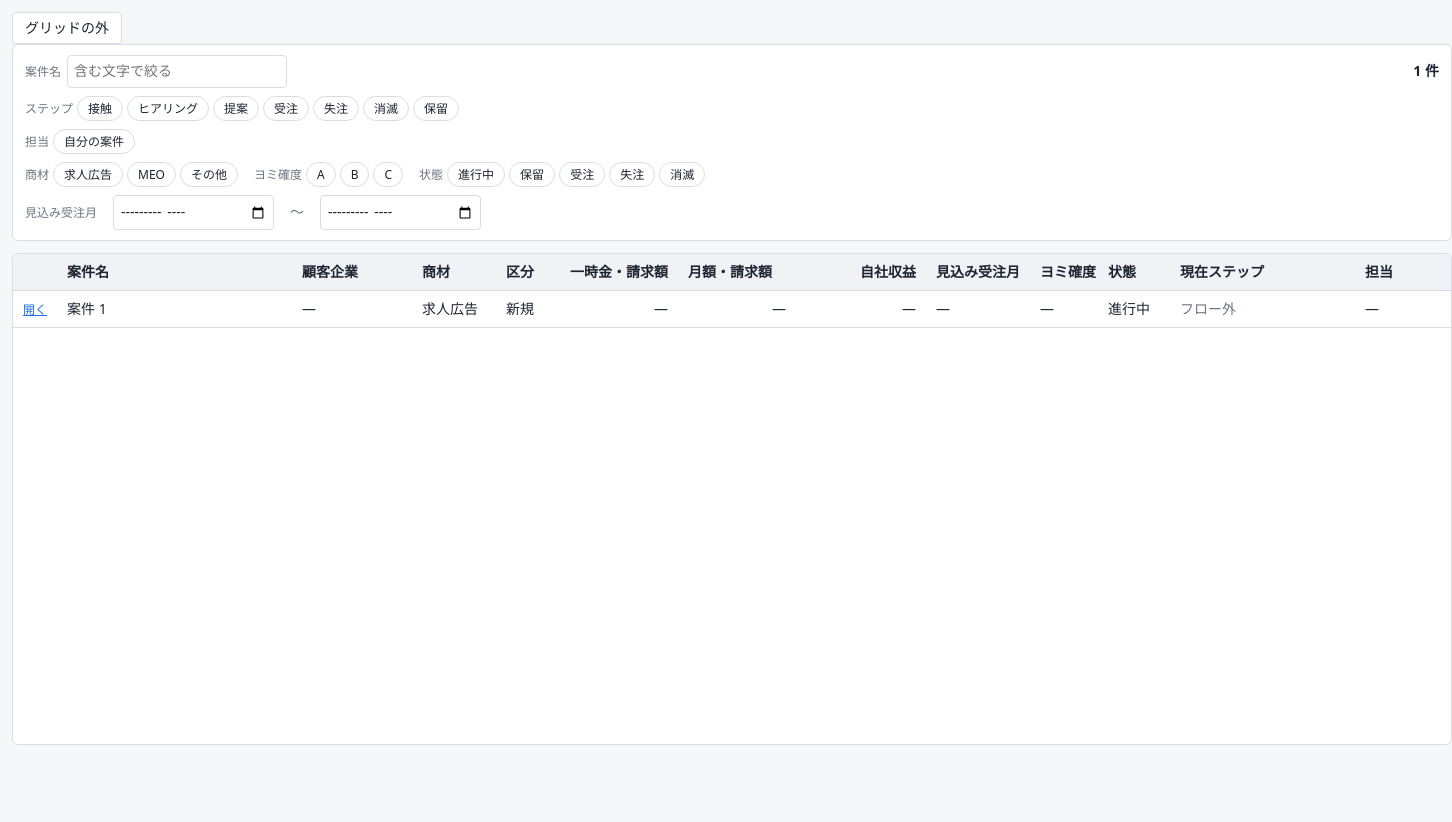
Test case: 編集の確定 › IME 変換確定の Enter ではセル確定せず、実キーの Enter で確定する
Click the cell "案件 1" at coordinates (87, 308), box [67,298,107,318]
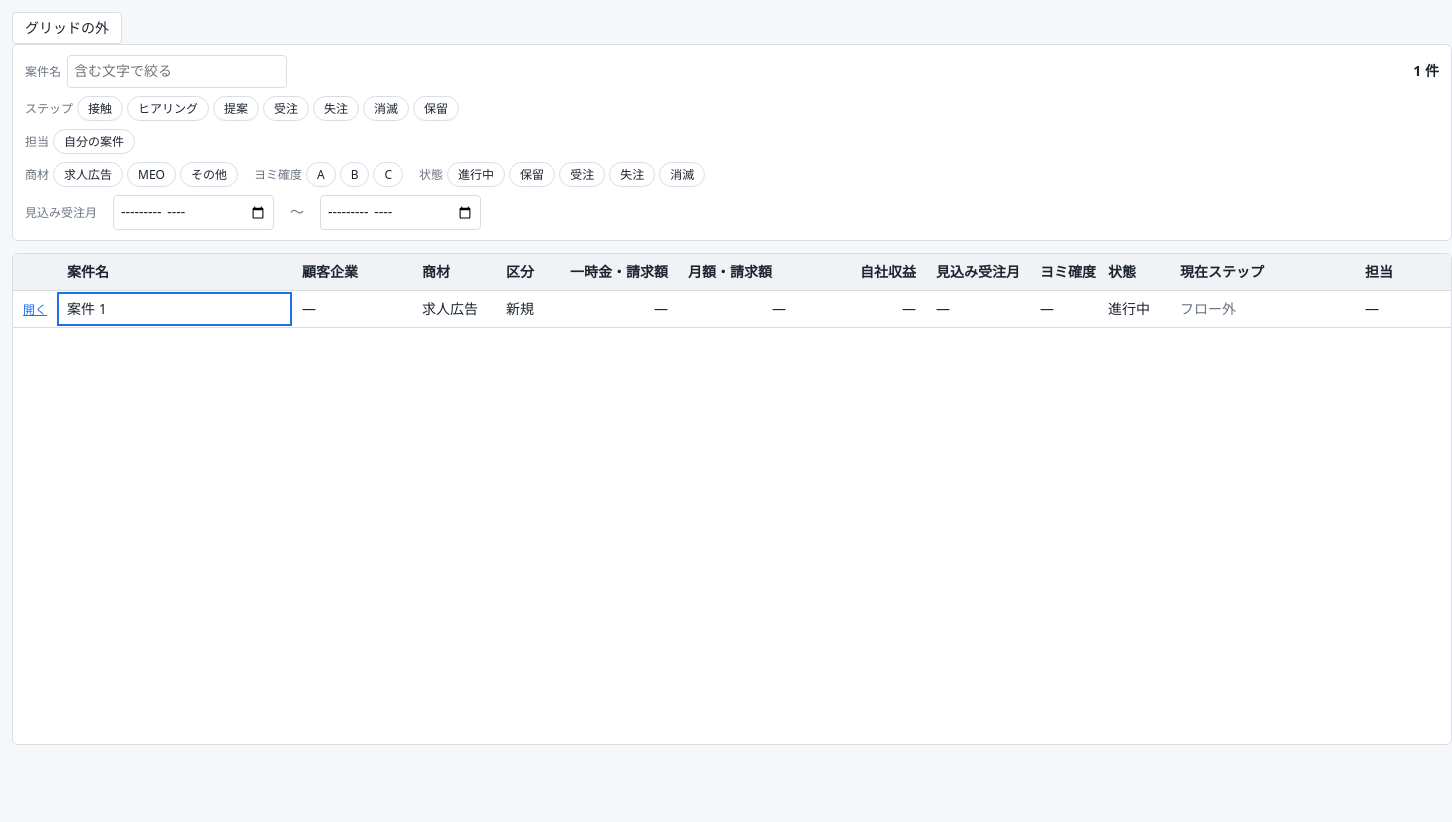
Press Enter
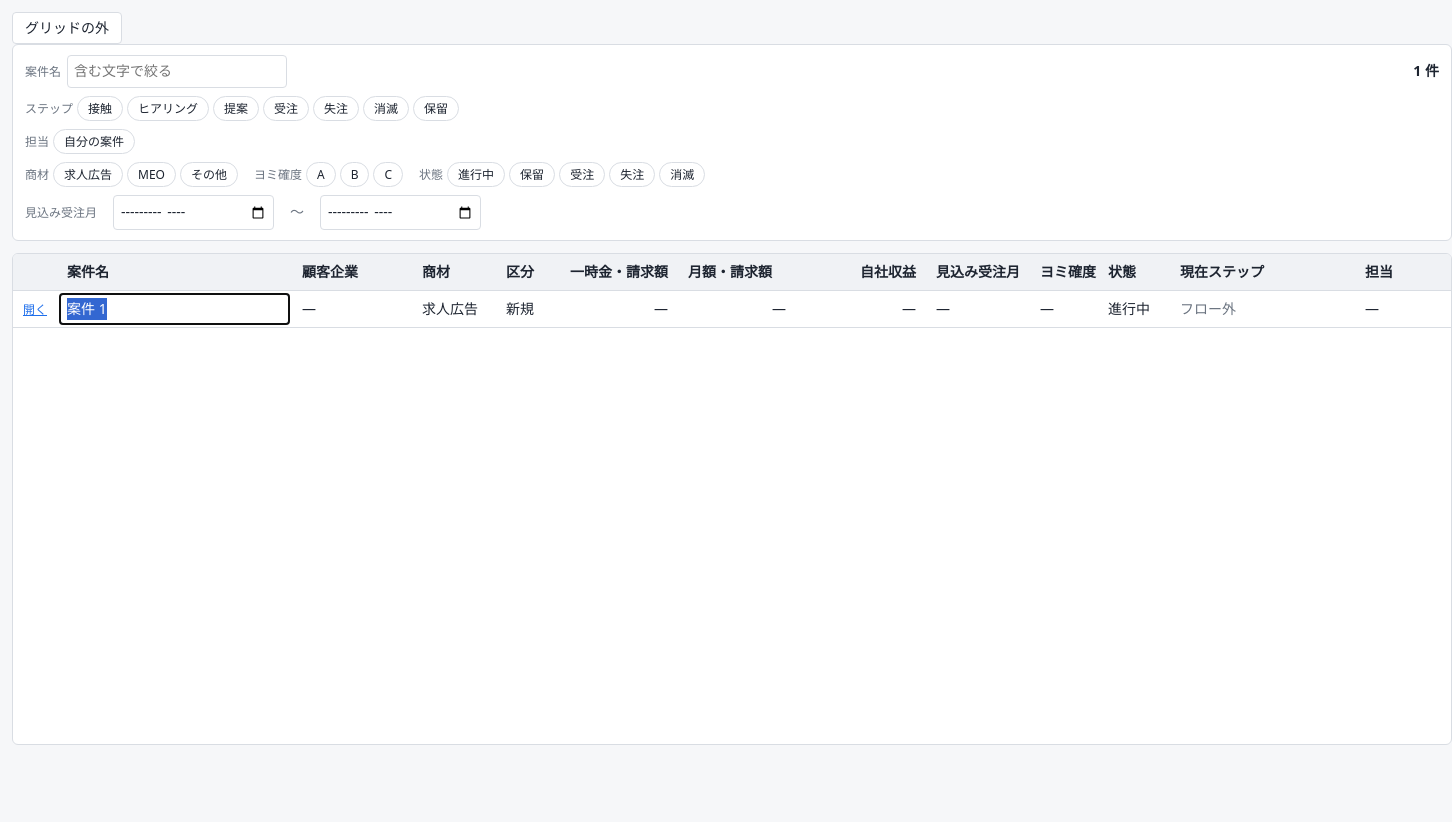
Expected: the field with class "cell-editor" is shown
Press Enter in the field with class "cell-editor", box [59,292,290,325]
Press Enter in the field with class "cell-editor", box [59,292,290,325]
Expected: the field with class "cell-editor" is shown, [59,292,290,325]
Press Enter
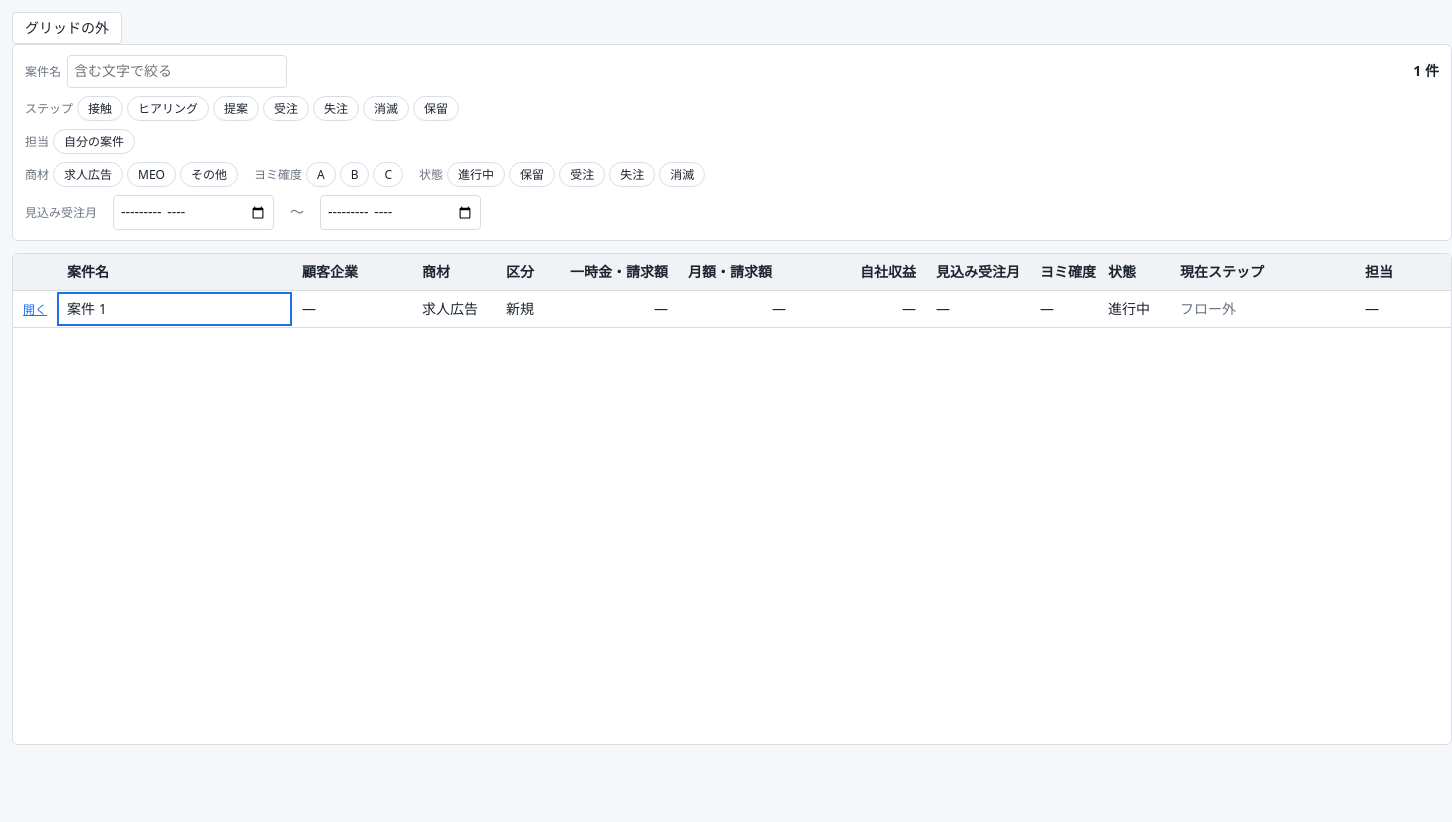
Expected: the field with class "cell-editor" is gone
